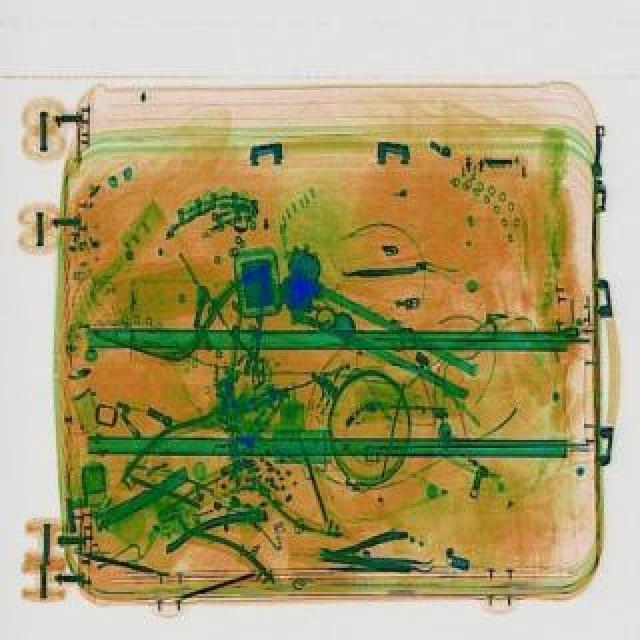wrench: (314, 528, 410, 576)
